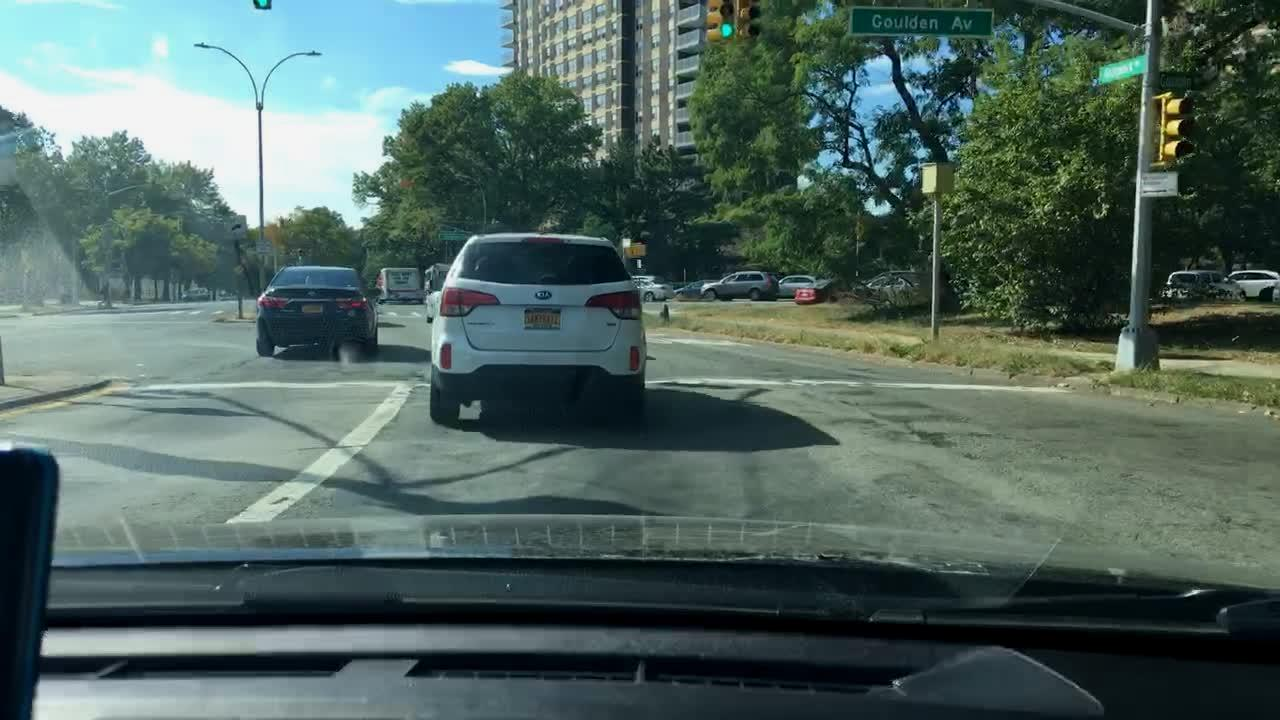kia: (532, 286, 555, 300)
